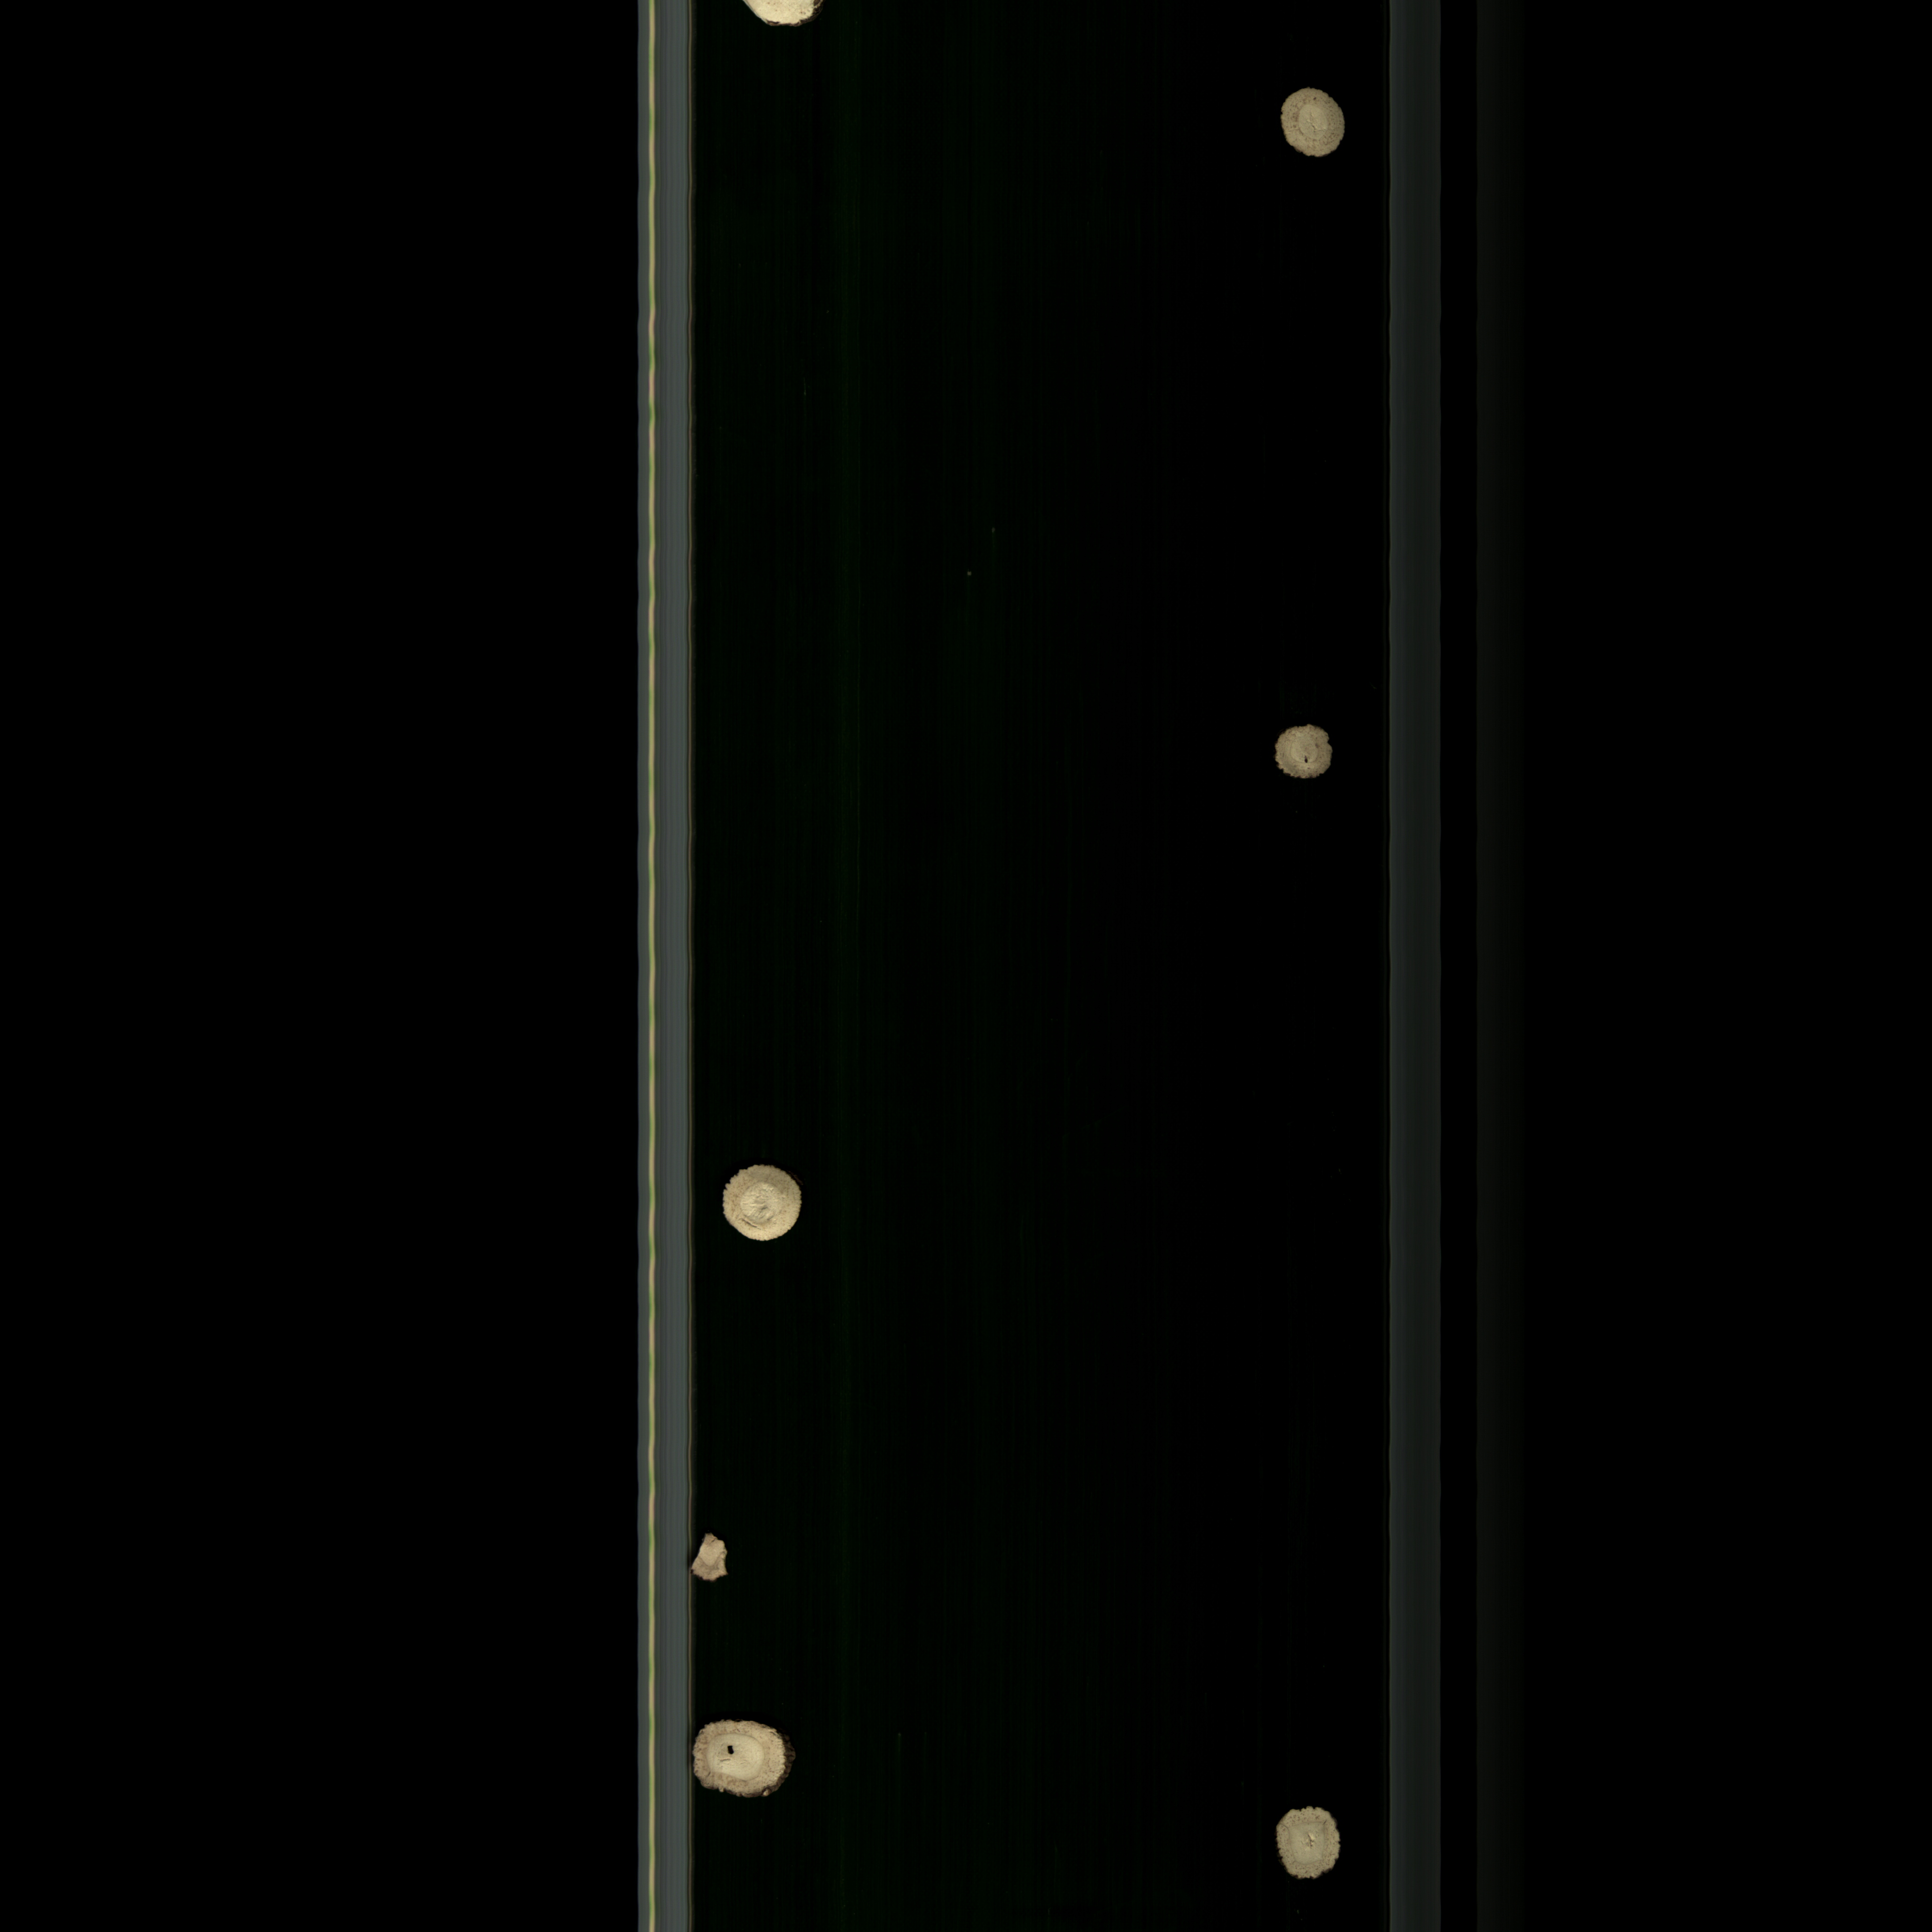dreg: (697, 1520, 743, 1606)
hole: (686, 1707, 810, 1812), (1274, 708, 1350, 794)
